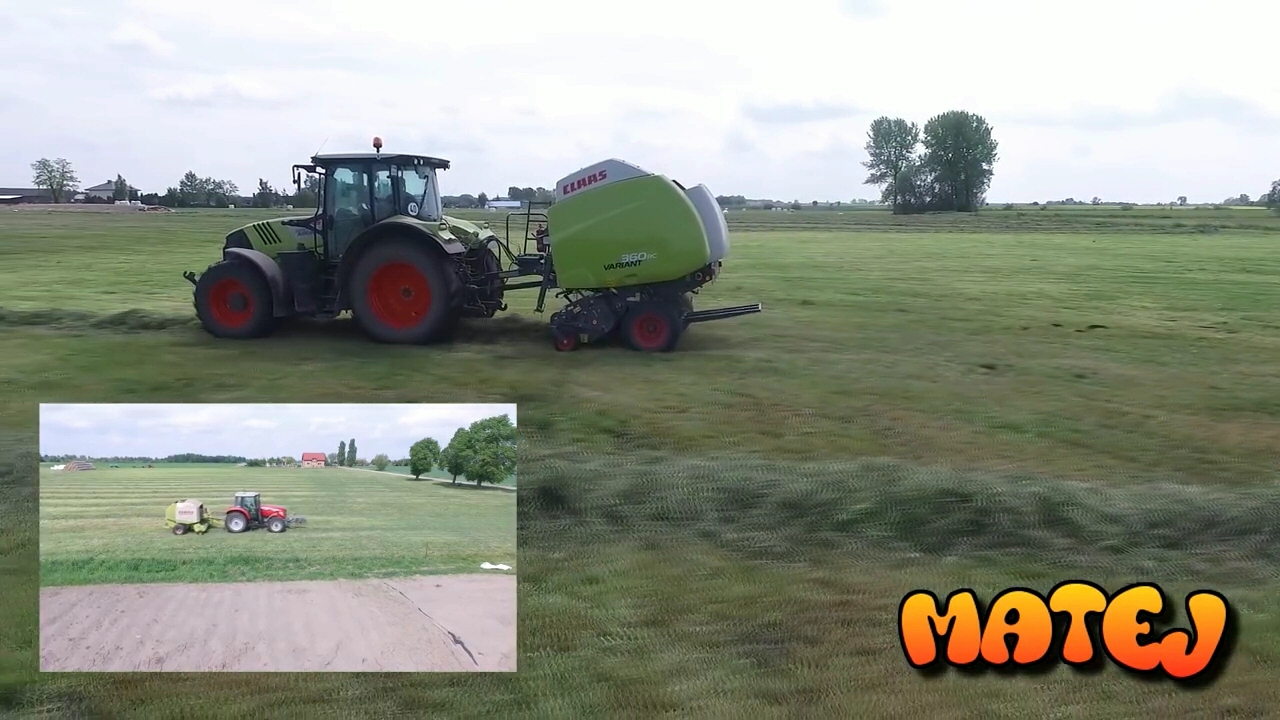traktor: (179, 150, 505, 346), (220, 489, 290, 536)
